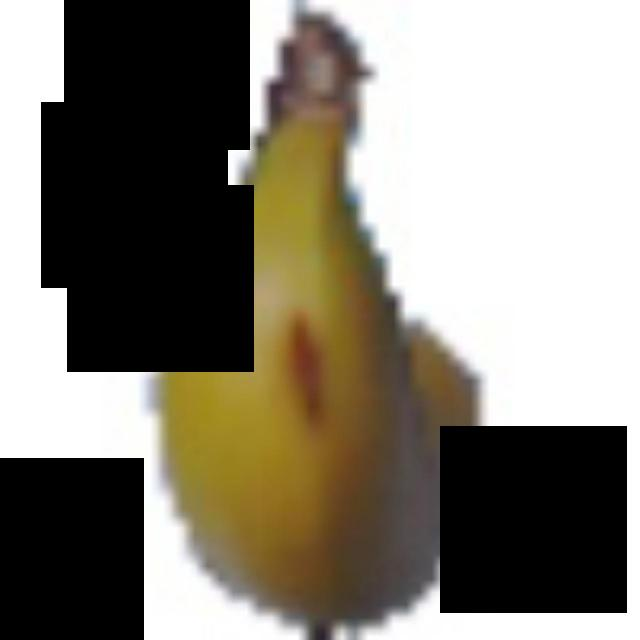banana: (134, 0, 499, 634)
